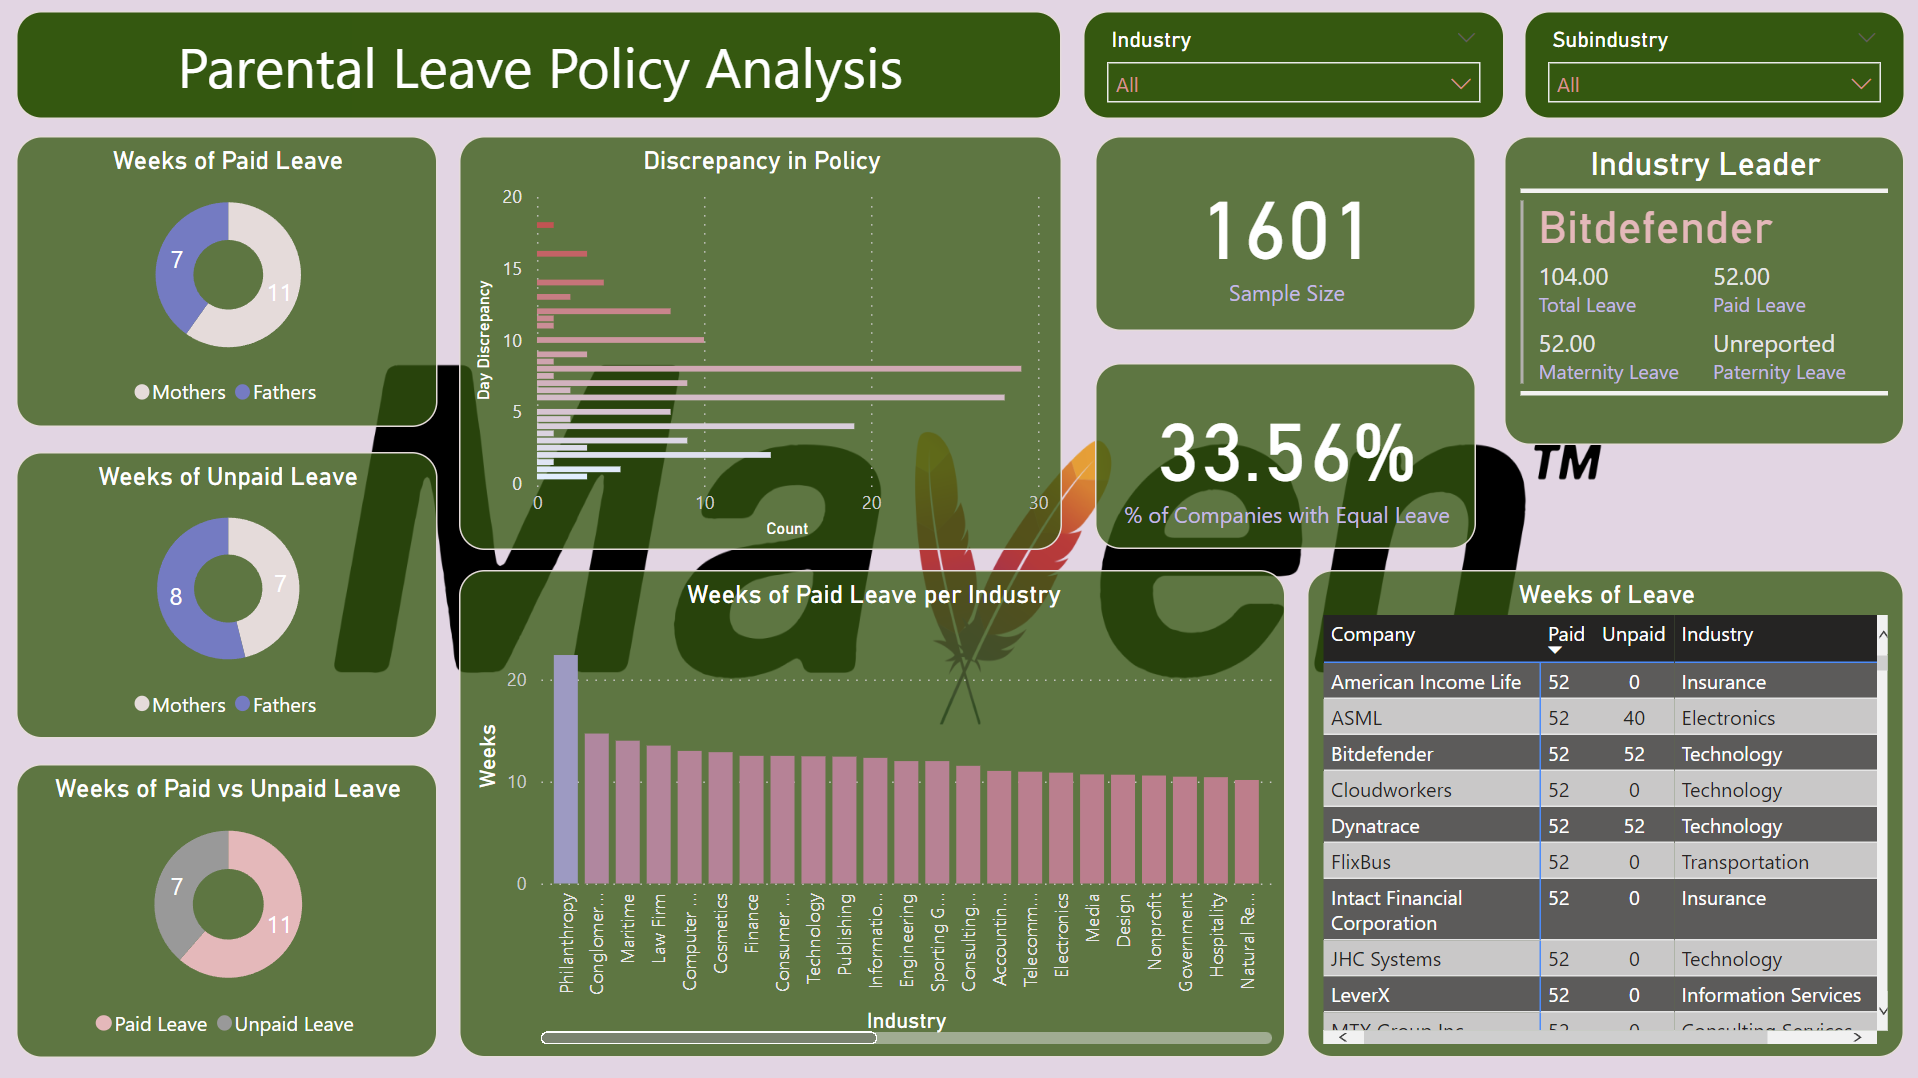

What the dashboard file says about the page in this screenshot:
{"tool":"powerbi","page":{"name":"Page 1","canvas":[1280,720],"ordinal":0},"visuals":[{"type":"slicer","fields":{"Values":["clean.main_industry"]},"box":[948,0,175.3,74.7],"z":0},{"type":"slicer","fields":{"Values":["clean.sub_industry"]},"box":[1123.3,0,156.7,74.7],"z":1000},{"type":"textbox","box":[0,0,656,56],"z":2000},{"type":"card","fields":{"Values":["CountNonNull(clean.company)"]},"box":[1026.2,74.6,253.8,110.8],"z":3000},{"type":"donutChart","fields":{"Y":["Avg(clean.avg_paid_leave)","Avg(clean.avg_unpaid_leave)"]},"box":[0,480,283.1,210],"z":4000},{"type":"donutChart","fields":{"Y":["Avg(clean.paid_maternity_leave)","Avg(clean.paid_paternity_leave)"]},"box":[0,60,283,210],"z":5000},{"type":"donutChart","fields":{"Y":["Avg(clean.unpaid_maternity_leave)","Avg(clean.unpaid_paternity_leave)"]},"box":[0,270,283.1,210],"z":6000},{"type":"pivotTable","fields":{"Rows":["clean.company"],"Values":["Sum(clean.avg_paid_leave)","Sum(clean.avg_unpaid_leave)"]},"box":[882.3,395.4,397.7,324.6],"z":7000},{"type":"multiRowCard","fields":{"Values":["clean.Max Value company","clean.Average of avg_paid_leave max per company","clean.Max Value maternity","clean.Max Value maternity_paid","clean.Max Value paternity_paid"]},"box":[672,96,336,128],"z":8000},{"type":"clusteredBarChart","title":"Discrepancy in Policy","fields":{"Category":["clean.discrepancy"],"Y":["CountNonNull(clean.company)"]},"box":[280,56,376,328],"z":9000},{"type":"card","fields":{"Values":["clean.good discrepancy"]},"box":[1026.2,185.4,253.8,150],"z":10000},{"type":"columnChart","fields":{"Category":["clean.main_industry"],"Y":["Avg(clean.avg_paid_leave)"]},"box":[296.9,395.4,585.4,324.6],"z":11000}]}

Visuals, with their boxes in screenshot pixels (x1, y1, x2, y2), scaled from the page's 1280x720 canvas onto the 1918x1078 screenshot:
slicer - clean.main_industry: bbox=(1421, 0, 1683, 112)
slicer - clean.sub_industry: bbox=(1683, 0, 1917, 112)
textbox: bbox=(0, 0, 983, 84)
card - CountNonNull(clean.company): bbox=(1538, 112, 1917, 278)
donutChart - Avg(clean.avg_paid_leave) x Avg(clean.avg_unpaid_leave): bbox=(0, 719, 424, 1033)
donutChart - Avg(clean.paid_maternity_leave) x Avg(clean.paid_paternity_leave): bbox=(0, 90, 424, 404)
donutChart - Avg(clean.unpaid_maternity_leave) x Avg(clean.unpaid_paternity_leave): bbox=(0, 404, 424, 719)
pivotTable - clean.company x Sum(clean.avg_paid_leave): bbox=(1322, 592, 1917, 1077)
multiRowCard - clean.Max Value company x clean.Average of avg_paid_leave max per company: bbox=(1007, 144, 1510, 335)
"Discrepancy in Policy" clusteredBarChart: bbox=(420, 84, 983, 575)
card - clean.good discrepancy: bbox=(1538, 278, 1917, 502)
columnChart - clean.main_industry x Avg(clean.avg_paid_leave): bbox=(445, 592, 1322, 1077)
